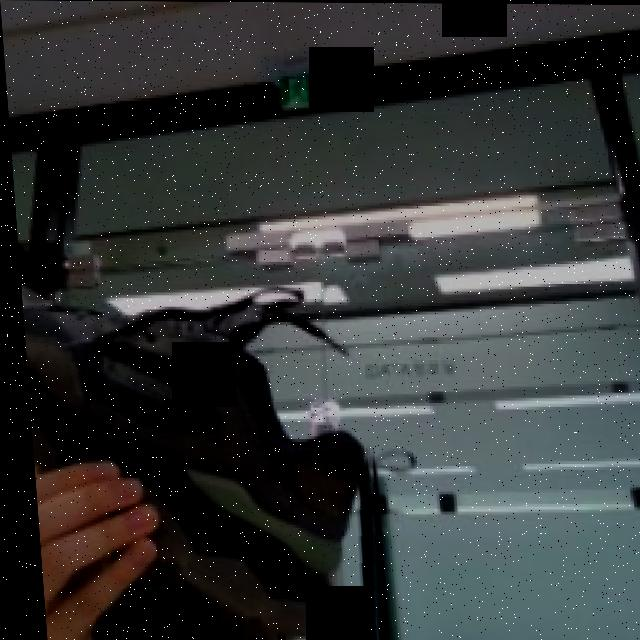shoe: (16, 277, 383, 640)
